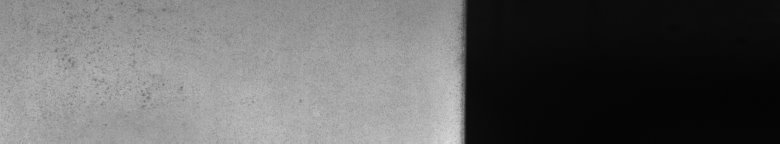ib: (53, 4, 183, 109)
